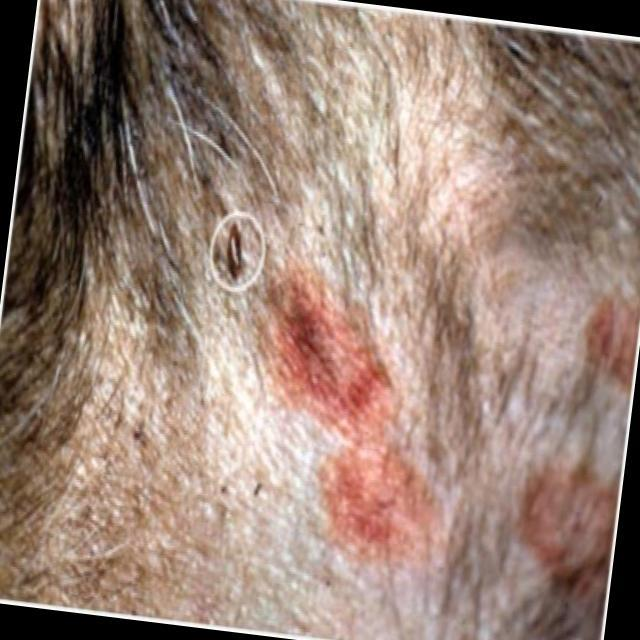allergic dermatitis: (318, 409, 455, 583), (262, 278, 392, 422)
